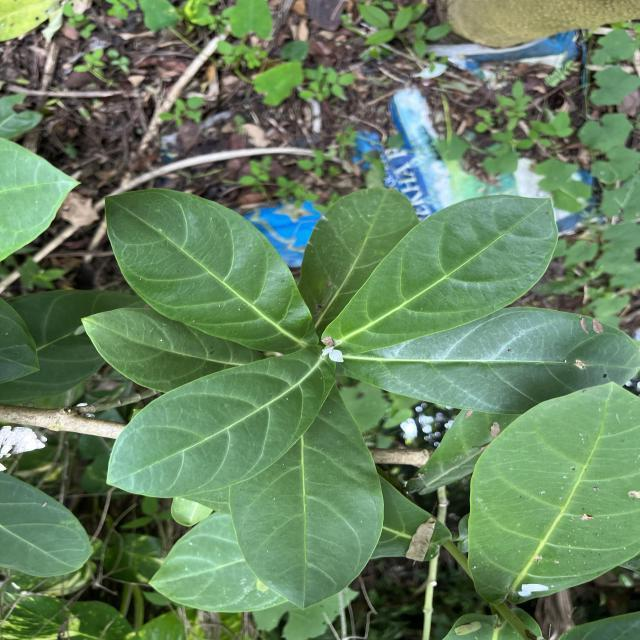Calotropis gigantea: (465, 376, 640, 607), (320, 194, 560, 356), (103, 187, 320, 356), (228, 386, 386, 612), (104, 346, 337, 499), (334, 305, 640, 417), (298, 185, 417, 328)
